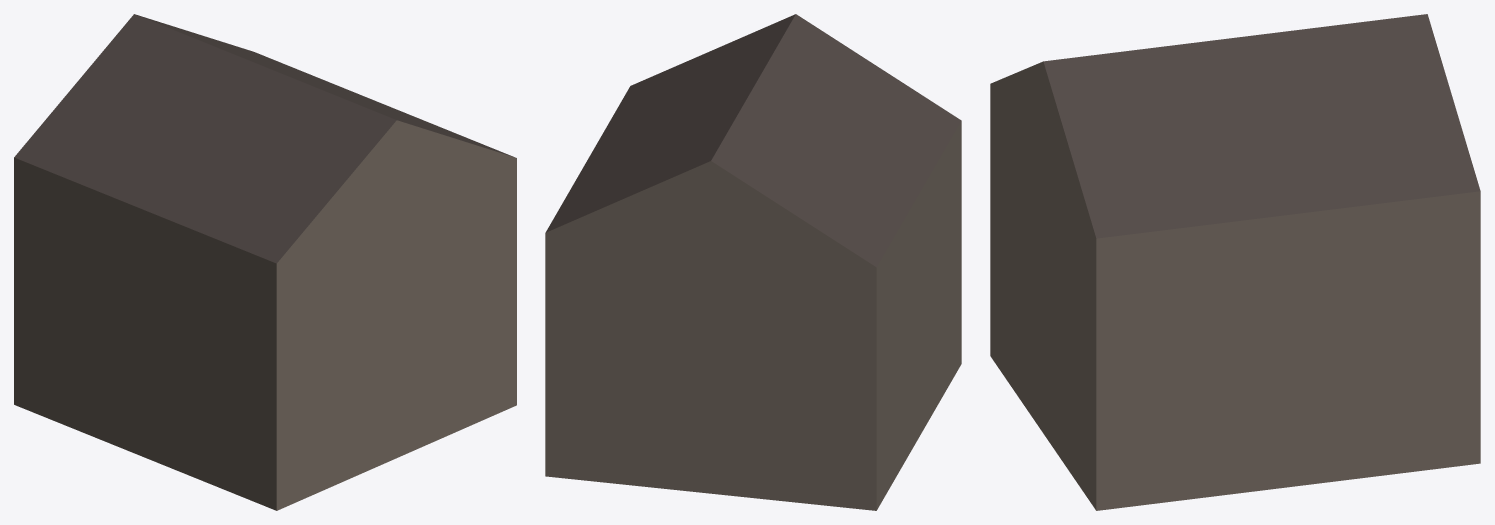
The picture shows the model from 3 angles, left to right: view 1: azimuth 30°, elevation 25°; view 2: azimuth 150°, elevation 25°; view 3: azimuth 270°, elevation 25°; orthographic projection. The views are drawn at different scales.
Parts seen in each view (by area): view 1: HP-w783664800; view 2: HP-w783664800; view 3: HP-w783664800.
Part boxes in pixels (x1,y1,x2,y2): HP-w783664800: [14, 14, 516, 510]; HP-w783664800: [545, 14, 961, 510]; HP-w783664800: [990, 14, 1480, 510].
Bounding box in the file's own units: 9.56 × 8.2 × 9.79.
